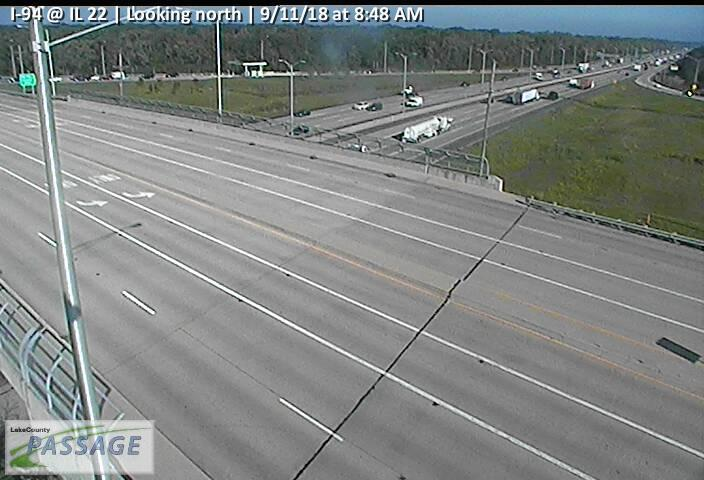Sedan: (353, 100, 369, 110), (295, 109, 311, 118)
Truck: (403, 116, 453, 142), (511, 89, 540, 104)
